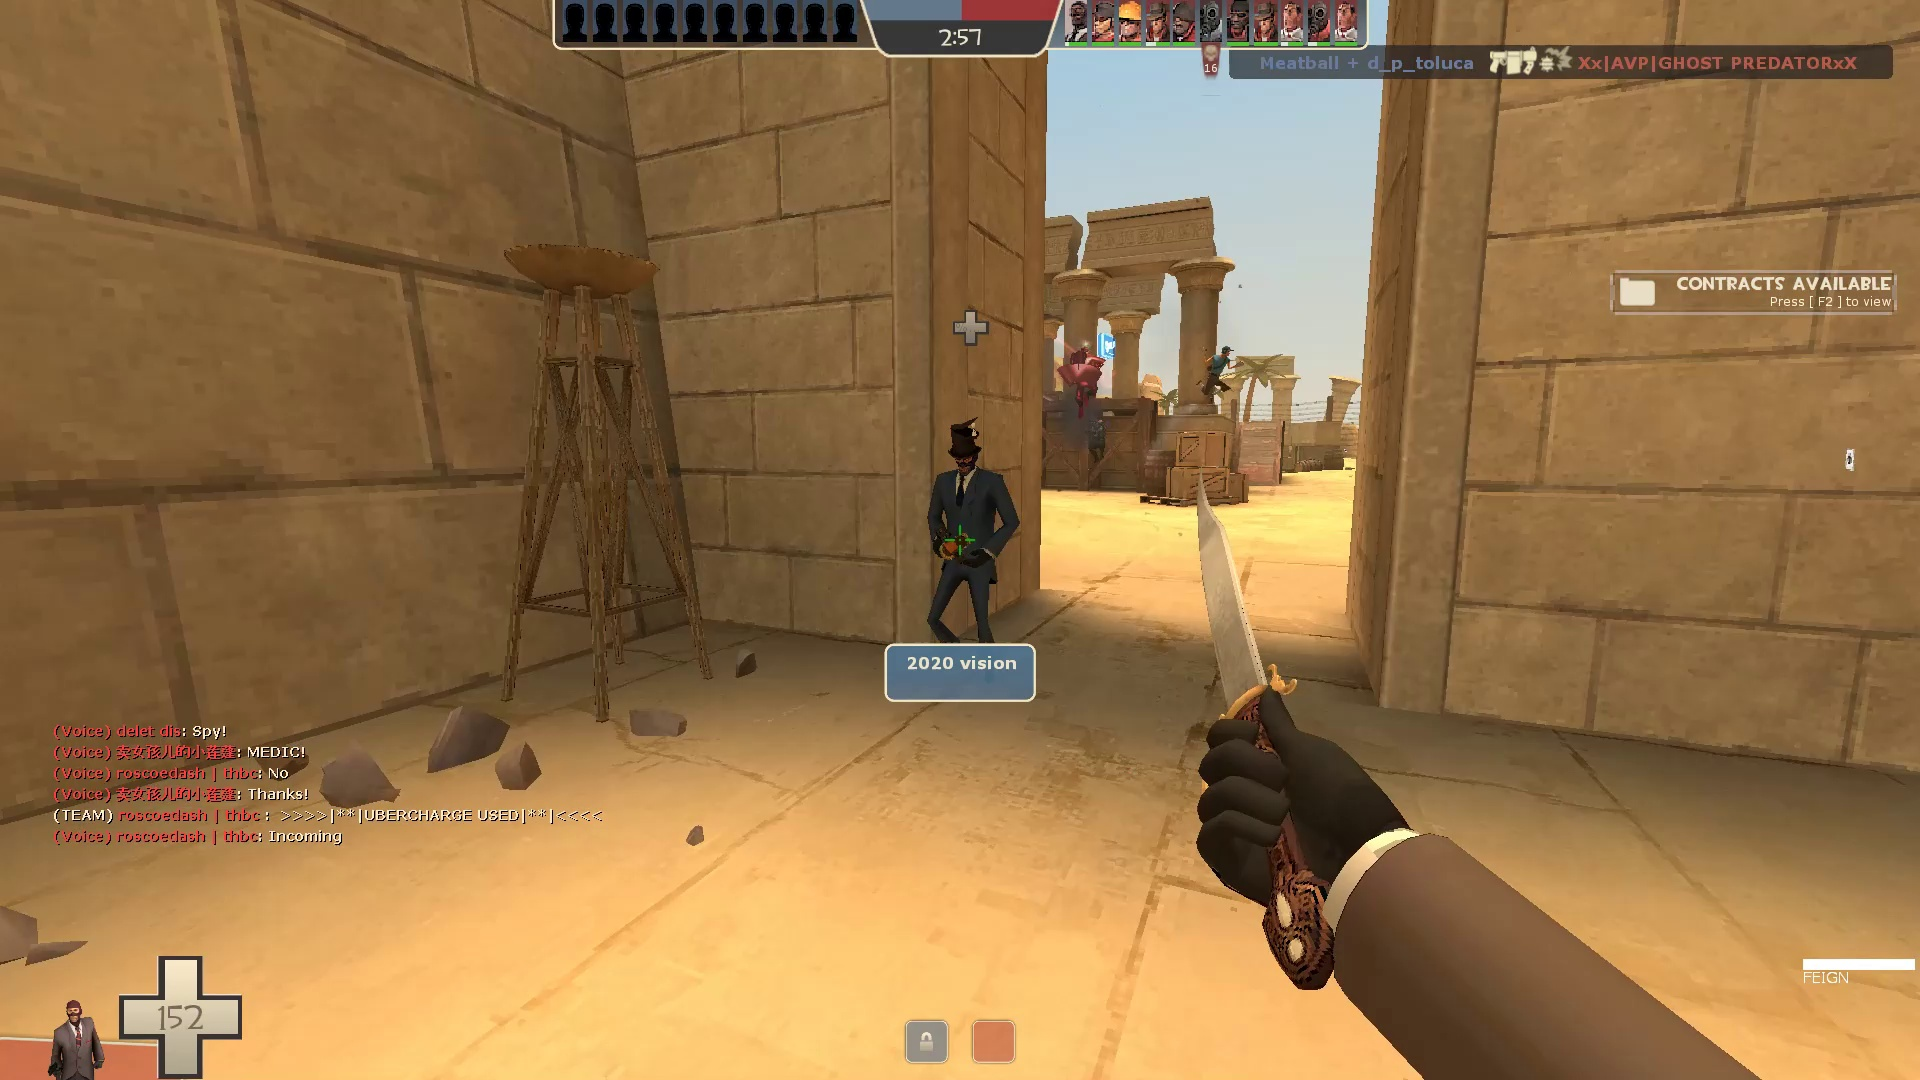blu_pyro: (1076, 410, 1114, 468)
blu_scout: (1191, 340, 1245, 405)
blu_spy: (909, 419, 1018, 691)
red_medic_uber: (1054, 338, 1108, 415)
